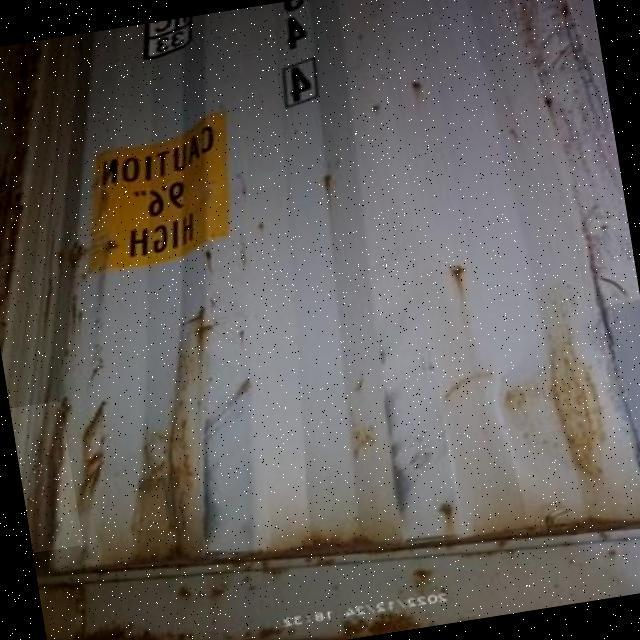Rust: (10, 401, 83, 553)
